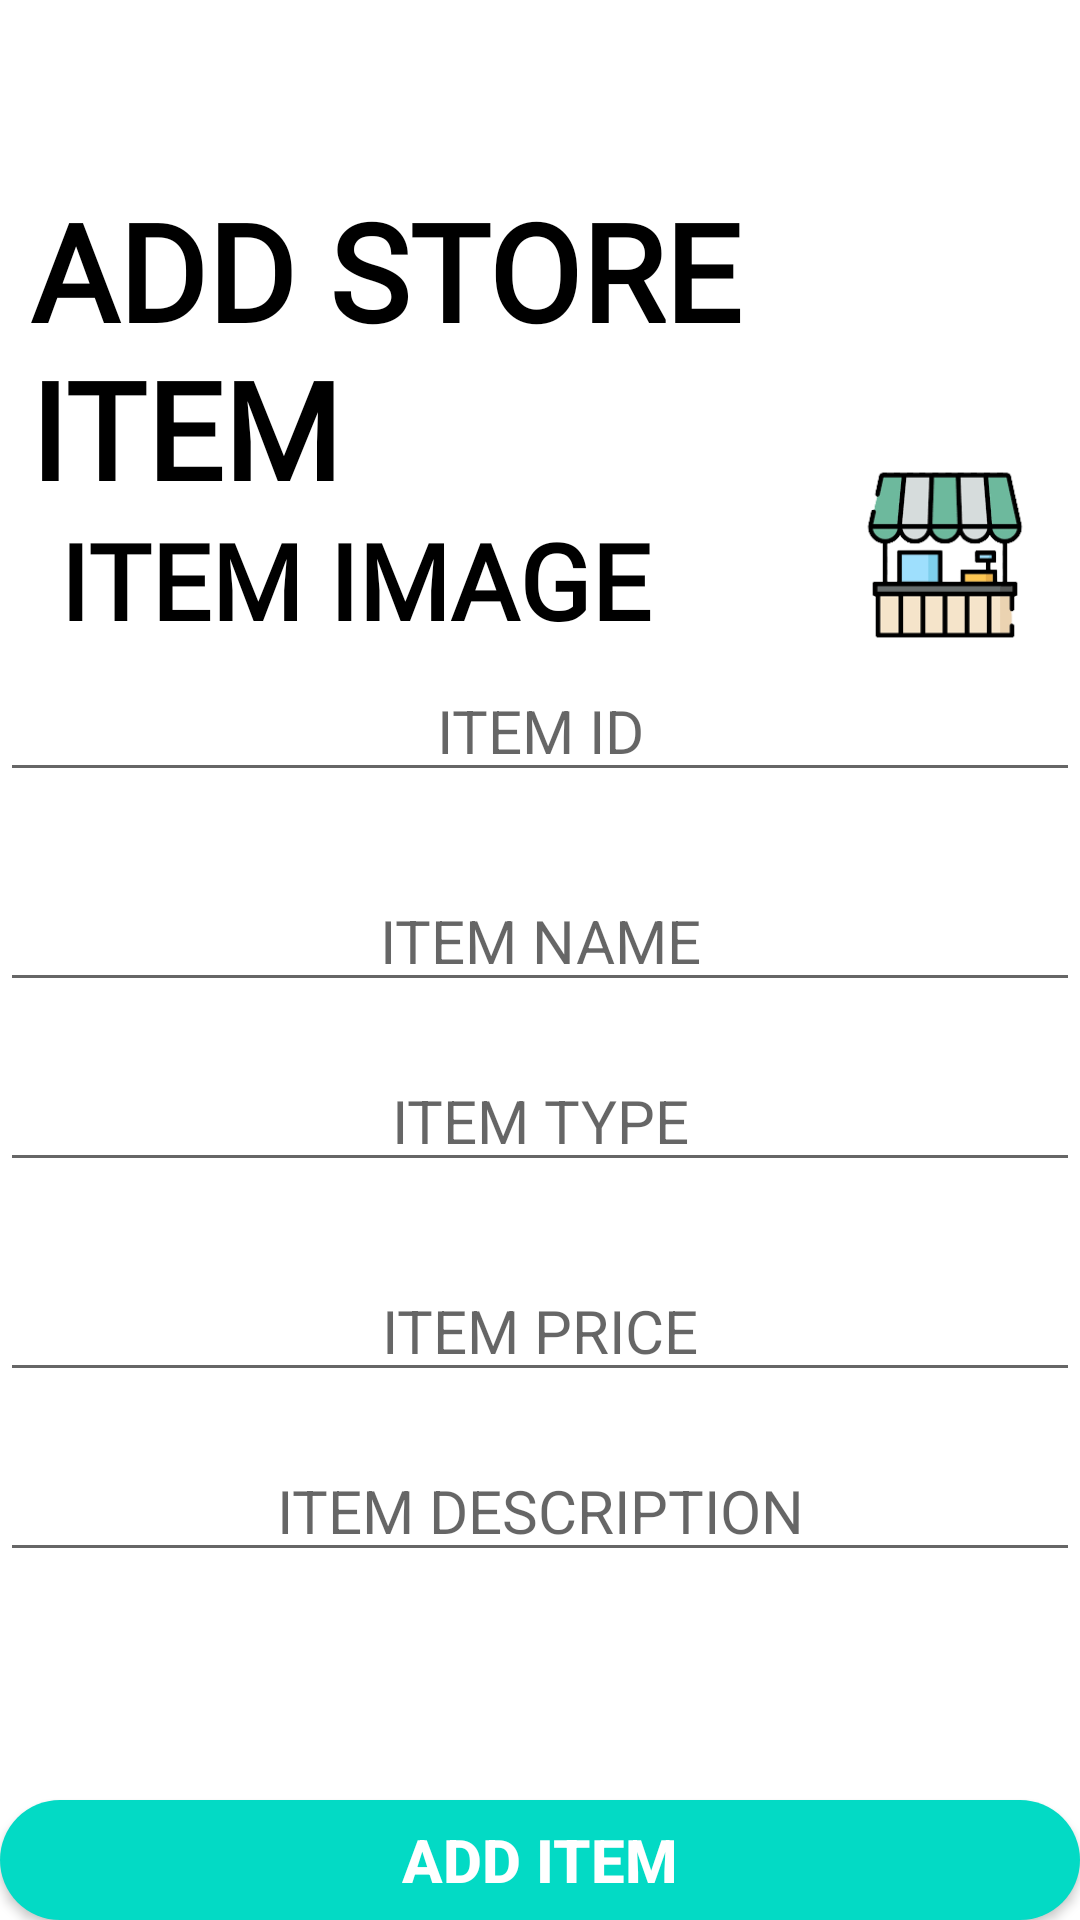

Locate icon controls on the screen. Image size 1080 x 1920, boxes as [x1,y1,x2,y2].
stall: [867,472,1023,638]
